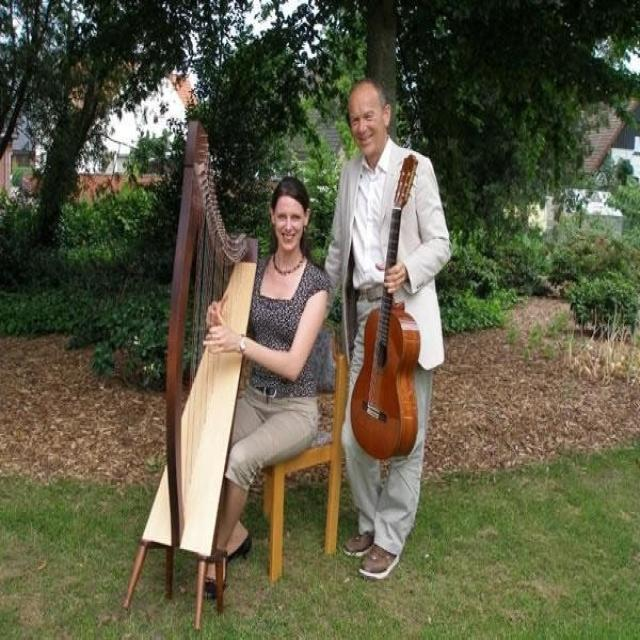guitar: (348, 148, 421, 458)
harp: (136, 114, 264, 562)
